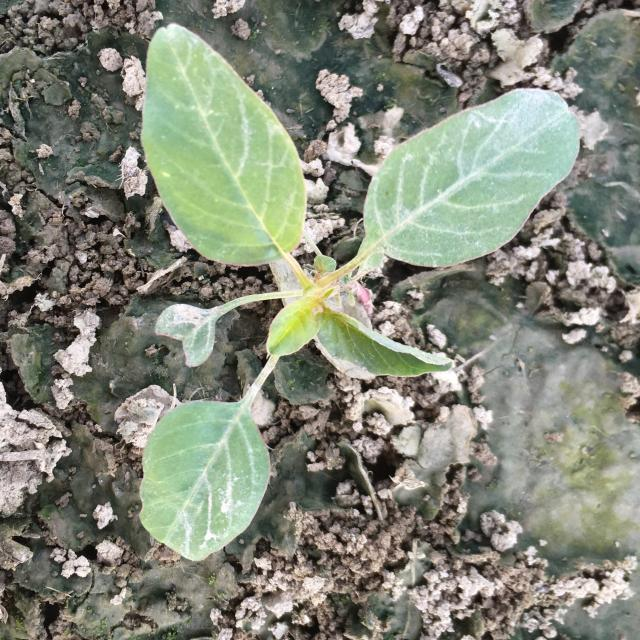PalmerAmaranth: (139, 23, 580, 562)
